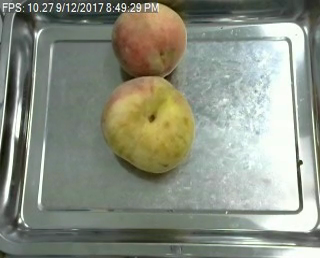Peach: (101, 75, 195, 173), (111, 1, 187, 78)
